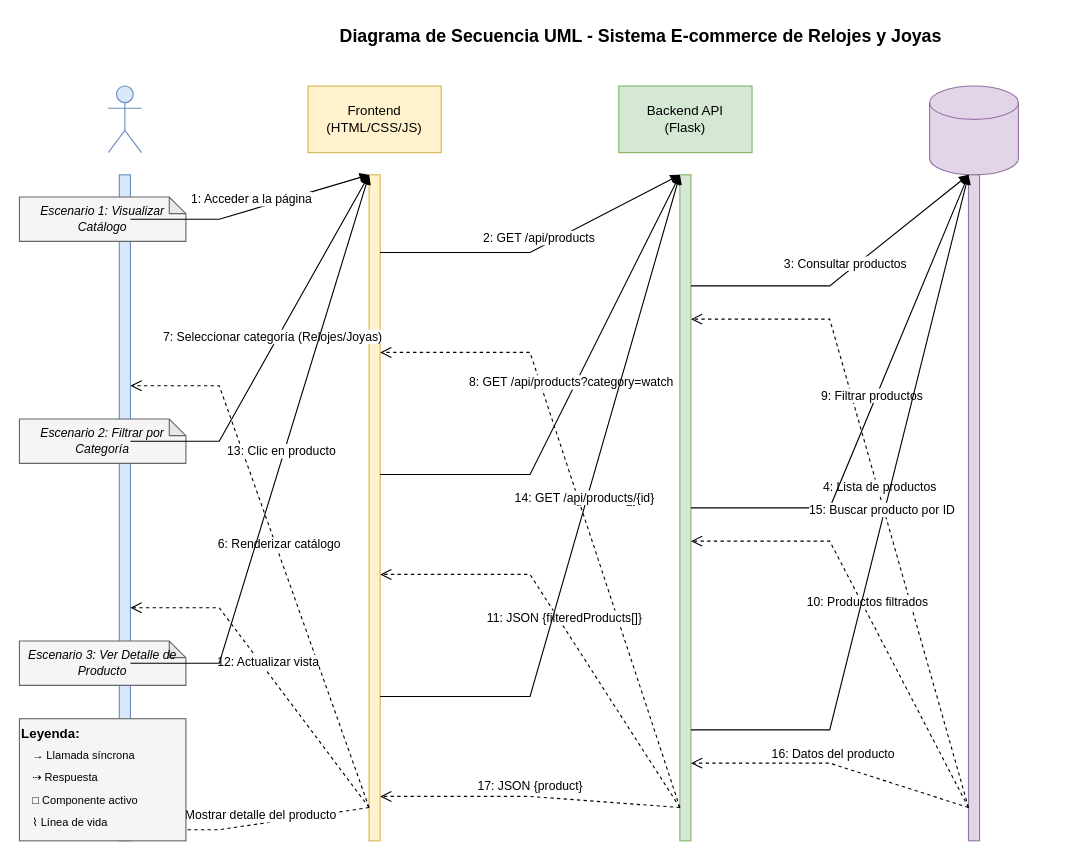
This 1082x860 diagram has some shape labels left out. The shapes that lost their labels are listed below. From the top down, each one's centre as x and y in pixels, then its label:
At point (124, 119): "Usuario".
At point (973, 130): "Catálogo (Memoria)".
